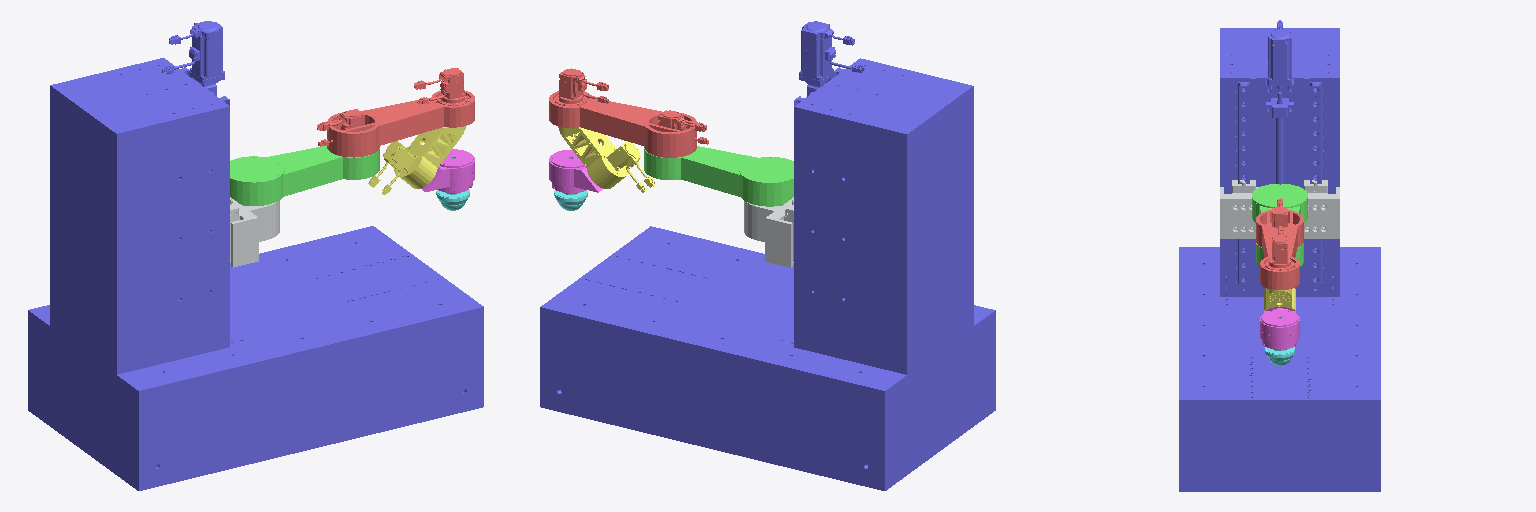
The robot description file, URDF, robot "mingurdf":
<?xml version="1.0" encoding="utf-8"?>
<!-- This URDF was automatically created by SolidWorks to URDF Exporter! Originally created by [author] ([email redacted]) 
     Commit Version: 1.6.0-4-g7f85cfe  Build Version: 1.6.7995.38578
     For more information, please see http://wiki.ros.org/sw_urdf_exporter -->
<robot
  name="mingurdf">
  <!--

  
  -->
  <link name="base_footprint" />
    <joint name="base_footprint_joint" type="fixed">
    <parent link="base_footprint" />
    <child link="base_link" />
  </joint>

  <link
    name="base_link">
    <inertial>
      <origin
        xyz="-0.0911857881097258 -8.30196663443789E-08 -0.106885396772365"
        rpy="0 0 0" />
      <mass
        value="448.455291712727" />
      <inertia
        ixx="30.9134960552599"
        ixy="5.36772417285236E-05"
        ixz="12.5203241084851"
        iyy="53.9280769799438"
        iyz="1.30394915172682E-06"
        izz="37.81104965848" />
    </inertial>
    <visual>
      <origin
        xyz="0 0 0"
        rpy="0 0 0" />
      <geometry>
        <mesh
          filename="package://mingurdf/meshes/base_link.STL" />
      </geometry>
      <material
        name="">
        <color
          rgba="0.5 0.5 1 1" />
      </material>
    </visual>
    <collision>
      <origin
        xyz="0 0 0"
        rpy="0 0 0" />
      <geometry>
        <mesh
          filename="package://mingurdf/meshes/base_link.STL" />
      </geometry>
    </collision>
  </link>
    <gazebo reference="base_link">
        <kinematic>1</kinematic>
        <material>Gazebo/White</material>
    </gazebo>
  <link
    name="zuobiao1">
    <inertial>
      <origin
        xyz="-0.0730125778611653 -0.00193381535218838 0.129516675570009"
        rpy="0 0 0" />
      <mass
        value="6.30779983026107" />
      <inertia
        ixx="0.0323636140052051"
        ixy="-0.000620304176738022"
        ixz="-3.5386391122811E-05"
        iyy="0.0176326975631143"
        iyz="5.8982317239007E-06"
        izz="0.0389930743174185" />
    </inertial>
    <visual>
      <origin
        xyz="0 0 0"
        rpy="0 0 0" />
      <geometry>
        <mesh
          filename="package://mingurdf/meshes/zuobiao1.STL" />
      </geometry>
      <material
        name="">
        <color
          rgba="0.898039215686275 0.917647058823529 0.929411764705882 1" />
      </material>
    </visual>
    <collision>
      <origin
        xyz="0 0 0"
        rpy="0 0 0" />
      <geometry>
        <mesh
          filename="package://mingurdf/meshes/zuobiao1.STL" />
      </geometry>
    </collision>
  </link>
      <gazebo reference="zuobiao1">
        <material>Gazebo/White</material>
      </gazebo>
  <joint
    name="zhixianmove"
    type="prismatic">
    <origin
      xyz="0 0 0"
      rpy="0 0 0" />
    <parent
      link="base_link" />
    <child
      link="zuobiao1" />
    <axis
      xyz="0 0 1" />
    <limit
      lower="0"
      upper="0.19"
      effort="10000"
      velocity="1000" />
  </joint>
  <link
    name="zuobiao2">
    <inertial>
      <origin
        xyz="0.108075719291185 -4.88178375396993E-17 0.160924114447853"
        rpy="0 0 0" />
      <mass
        value="3.33164684937567" />
      <inertia
        ixx="0.00472553809345875"
        ixy="2.27816436130718E-18"
        ixz="0.00117151756376351"
        iyy="0.0393814222121523"
        iyz="1.33224960462247E-19"
        izz="0.0426002783406026" />
    </inertial>
    <visual>
      <origin
        xyz="0 0 0"
        rpy="0 0 0" />
      <geometry>
        <mesh
          filename="package://mingurdf/meshes/zuobiao2.STL" />
      </geometry>
      <material
        name="">
        <color
          rgba="0.5 1 0.5 1" />
      </material>
    </visual>
    <collision>
      <origin
        xyz="0 0 0"
        rpy="0 0 0" />
      <geometry>
        <mesh
          filename="package://mingurdf/meshes/zuobiao2.STL" />
      </geometry>
    </collision>
  </link>
      <gazebo reference="zuobiao2">
        <material>Gazebo/White</material>
      </gazebo>
  <joint
    name="zhuan1"
    type="revolute">
    <origin
      xyz="0 0 0.037731"
      rpy="0 0 0" />
    <parent
      link="zuobiao1" />
    <child
      link="zuobiao2" />
    <axis
      xyz="0 0 1" />
    <limit
      lower="-1.57"
      upper="1.57"
      effort="10"
      velocity="10" />
  </joint>
  <link
    name="zuobiao3">
    <inertial>
      <origin
        xyz="0.0973872089275022 -1.52786082991248E-05 0.221695666648077"
        rpy="0 0 0" />
      <mass
        value="2.73296761154439" />
      <inertia
        ixx="0.00295417661232808"
        ixy="-2.50064683376093E-06"
        ixz="-0.00150640062102406"
        iyy="0.0263468290547237"
        iyz="5.44698987392585E-08"
        izz="0.027679166905413" />
    </inertial>
    <visual>
      <origin
        xyz="0 0 0"
        rpy="0 0 0" />
      <geometry>
        <mesh
          filename="package://mingurdf/meshes/zuobiao3.STL" />
      </geometry>
      <material
        name="">
        <color
          rgba="1 0.5 0.5 1" />
      </material>
    </visual>
    <collision>
      <origin
        xyz="0 0 0"
        rpy="0 0 0" />
      <geometry>
        <mesh
          filename="package://mingurdf/meshes/zuobiao3.STL" />
      </geometry>
    </collision>
  </link>
      <gazebo reference="zuobiao3">
        <material>Gazebo/White</material>
      </gazebo>
  <joint
    name="zhuan2"
    type="revolute">
    <origin
      xyz="0.26 0 0"
      rpy="0 0 0" />
    <parent
      link="zuobiao2" />
    <child
      link="zuobiao3" />
    <axis
      xyz="0 0 -1" />
    <limit
      lower="-3.14159"
      upper="0"
      effort="10"
      velocity="10" />
  </joint>
  <link
    name="zuobiao4">
    <inertial>
      <origin
        xyz="-0.000104161259009247 0.0632858569439245 0.141469261146007"
        rpy="0 0 0" />
      <mass
        value="1.16079385341549" />
      <inertia
        ixx="0.00340418846413939"
        ixy="7.39976587143445E-07"
        ixz="-8.67663472417606E-07"
        iyy="0.0019704941257227"
        iyz="0.00137214690299302"
        izz="0.00238974121657912" />
    </inertial>
    <visual>
      <origin
        xyz="0 0 0"
        rpy="0 0 0" />
      <geometry>
        <mesh
          filename="package://mingurdf/meshes/zuobiao4.STL" />
      </geometry>
      <material
        name="">
        <color
          rgba="1 1 0.5 1" />
      </material>
    </visual>
    <collision>
      <origin
        xyz="0 0 0"
        rpy="0 0 0" />
      <geometry>
        <mesh
          filename="package://mingurdf/meshes/zuobiao4.STL" />
      </geometry>
    </collision>
  </link>
      <gazebo reference="zuobiao4">
        <material>Gazebo/White</material>
      </gazebo>
  <joint
    name="zhuan3"
    type="revolute">
    <origin
      xyz="0.26 0 0"
      rpy="0 0 1.5708" />
    <parent
      link="zuobiao3" />
    <child
      link="zuobiao4" />
    <axis
      xyz="0 0 -1" />
    <limit
      lower="-0.2"
      upper="6.283"
      effort="10"
      velocity="10" />
  </joint>
  <link
    name="zuobiao5">
    <inertial>
      <origin
        xyz="-3.28386382188242E-09 -0.0325666734533583 0.0615766016931337"
        rpy="0 0 0" />
      <mass
        value="1.17546911173839" />
      <inertia
        ixx="0.00131428250418852"
        ixy="1.19821788071572E-10"
        ixz="-2.39301241706768E-10"
        iyy="0.00142734787023168"
        iyz="-0.000488076955488595"
        izz="0.00146142645399807" />
    </inertial>
    <visual>
      <origin
        xyz="0 0 0"
        rpy="0 0 0" />
      <geometry>
        <mesh
          filename="package://mingurdf/meshes/zuobiao5.STL" />
      </geometry>
      <material
        name="">
        <color
          rgba="1 0.5 1 1" />
      </material>
    </visual>
    <collision>
      <origin
        xyz="0 0 0"
        rpy="0 0 0" />
      <geometry>
        <mesh
          filename="package://mingurdf/meshes/zuobiao5.STL" />
      </geometry>
    </collision>
  </link>
      <gazebo reference="zuobiao5">
        <material>Gazebo/White</material>
      </gazebo>
  <joint
    name="zhuan4"
    type="revolute">
    <origin
      xyz="0 0 0"
      rpy="-0.7854 0 0" />
    <parent
      link="zuobiao4" />
    <child
      link="zuobiao5" />
    <axis
      xyz="0 0 -1" />
    <limit
      lower="-3.14159"
      upper="3.14159"
      effort="10"
      velocity="10" />
  </joint>
  <link
    name="zuobiao6">
    <inertial>
      <origin
        xyz="7.75352320290942E-06 1.57367979316536E-05 0.0352281757037771"
        rpy="0 0 0" />
      <mass
        value="0.348126651606832" />
      <inertia
        ixx="0.000150983782199253"
        ixy="-9.05933897929456E-09"
        ixz="7.74950103975545E-08"
        iyy="0.000151097790869217"
        iyz="1.57286344201923E-07"
        izz="0.000159818104969042" />
    </inertial>
    <visual>
      <origin
        xyz="0 0 0"
        rpy="0 0 0" />
      <geometry>
        <mesh
          filename="package://mingurdf/meshes/zuobiao6.STL" />
      </geometry>
      <material
        name="">
        <color
          rgba="0.5 1 1 1" />
      </material>
    </visual>
    <collision>
      <origin
        xyz="0 0 0"
        rpy="0 0 0" />
      <geometry>
        <mesh
          filename="package://mingurdf/meshes/zuobiao6.STL" />
      </geometry>
    </collision>
  </link>
      <gazebo reference="zuobiao6">
        <material>Gazebo/White</material>
      </gazebo>
  <joint
    name="zhuan5"
    type="continuous">
    <origin
      xyz="0 0 0"
      rpy="0.7854 0 0" />
    <parent
      link="zuobiao5" />
    <child
      link="zuobiao6" />
    <axis
      xyz="0 0 -1" />
  </joint>

    <transmission name="trans_zhixianmove">
        <type>transmission_interface/SimpleTransmission</type>
        <joint name="zhixianmove">
            <hardwareInterface>hardware_interface/EffortJointInterface</hardwareInterface>
        </joint>
        <actuator name="zhixianmove_motor">
            <hardwareInterface>hardware_interface/EffortJointInterface</hardwareInterface>
            <mechanicalReduction>100</mechanicalReduction>
        </actuator>
    </transmission>
    <transmission name="trans_zhuan1">
        <type>transmission_interface/SimpleTransmission</type>
        <joint name="zhuan1">
            <hardwareInterface>hardware_interface/EffortJointInterface</hardwareInterface>
        </joint>
        <actuator name="zhuan1_motor">
            <hardwareInterface>hardware_interface/EffortJointInterface</hardwareInterface>
            <mechanicalReduction>100</mechanicalReduction>
        </actuator>
    </transmission>
    <transmission name="trans_zhuan2">
        <type>transmission_interface/SimpleTransmission</type>
        <joint name="zhuan2">
            <hardwareInterface>hardware_interface/EffortJointInterface</hardwareInterface>
        </joint>
        <actuator name="zhuan2_motor">
            <hardwareInterface>hardware_interface/EffortJointInterface</hardwareInterface>
            <mechanicalReduction>100</mechanicalReduction>
        </actuator>
    </transmission>
    <transmission name="trans_zhuan3">
        <type>transmission_interface/SimpleTransmission</type>
        <joint name="zhuan3">
            <hardwareInterface>hardware_interface/EffortJointInterface</hardwareInterface>
        </joint>
        <actuator name="zhuan3_motor">
            <hardwareInterface>hardware_interface/EffortJointInterface</hardwareInterface>
            <mechanicalReduction>100</mechanicalReduction>
        </actuator>
    </transmission>
    <transmission name="trans_zhuan4">
        <type>transmission_interface/SimpleTransmission</type>
        <joint name="zhuan4">
            <hardwareInterface>hardware_interface/EffortJointInterface</hardwareInterface>
        </joint>
        <actuator name="zhuan4_motor">
            <hardwareInterface>hardware_interface/EffortJointInterface</hardwareInterface>
            <mechanicalReduction>100</mechanicalReduction>
        </actuator>
    </transmission>
    <transmission name="trans_zhuan5">
        <type>transmission_interface/SimpleTransmission</type>
        <joint name="zhuan5">
            <hardwareInterface>hardware_interface/EffortJointInterface</hardwareInterface>
        </joint>
        <actuator name="zhuan5_motor">
            <hardwareInterface>hardware_interface/EffortJointInterface</hardwareInterface>
            <mechanicalReduction>1</mechanicalReduction>
        </actuator>
    </transmission>
    <gazebo>
        <plugin name="gazebo_ros_control" filename="libgazebo_ros_control.so">
            <robotNamespace>/arm</robotNamespace>
        </plugin>
    </gazebo>

</robot>

--- Render facts (derived) ---
Views: 3 orthographic renders of the robot side by side, from view 1: azimuth 30°, elevation 25°; view 2: azimuth 150°, elevation 25°; view 3: azimuth 270°, elevation 25°.
Model mingurdf with 8 links and 7 joints (4 revolute, 1 continuous, 1 prismatic, 1 fixed), rooted at base_footprint, posed every joint at zero.
Links seen in each view (by area): view 1: base_link, zuobiao3, zuobiao2, zuobiao4, zuobiao1, zuobiao5; view 2: base_link, zuobiao3, zuobiao2, zuobiao4, zuobiao1, zuobiao5; view 3: base_link, zuobiao1, zuobiao3, zuobiao2, zuobiao5, zuobiao4.
Boxes of the visible links, left/top/right/bottom form: base_link: left=28, top=21, right=483, bottom=490; zuobiao3: left=317, top=68, right=474, bottom=157; zuobiao2: left=230, top=146, right=379, bottom=205; zuobiao4: left=368, top=126, right=465, bottom=194; zuobiao1: left=230, top=197, right=279, bottom=267; zuobiao5: left=420, top=149, right=474, bottom=193; base_link: left=540, top=21, right=995, bottom=490; zuobiao3: left=549, top=68, right=708, bottom=157; zuobiao2: left=644, top=146, right=793, bottom=206; zuobiao4: left=558, top=127, right=655, bottom=192; zuobiao1: left=744, top=197, right=793, bottom=267; zuobiao5: left=549, top=150, right=602, bottom=193; base_link: left=1179, top=20, right=1380, bottom=491; zuobiao1: left=1220, top=180, right=1339, bottom=238; zuobiao3: left=1256, top=198, right=1303, bottom=289; zuobiao2: left=1252, top=184, right=1307, bottom=266; zuobiao5: left=1260, top=307, right=1299, bottom=350; zuobiao4: left=1264, top=288, right=1295, bottom=310.
Bounding box of the posed robot: 1.01 × 0.5 × 0.9833 m (x, y, z).
7 mesh visuals loaded from 7 distinct referenced files (7 binary STL).
